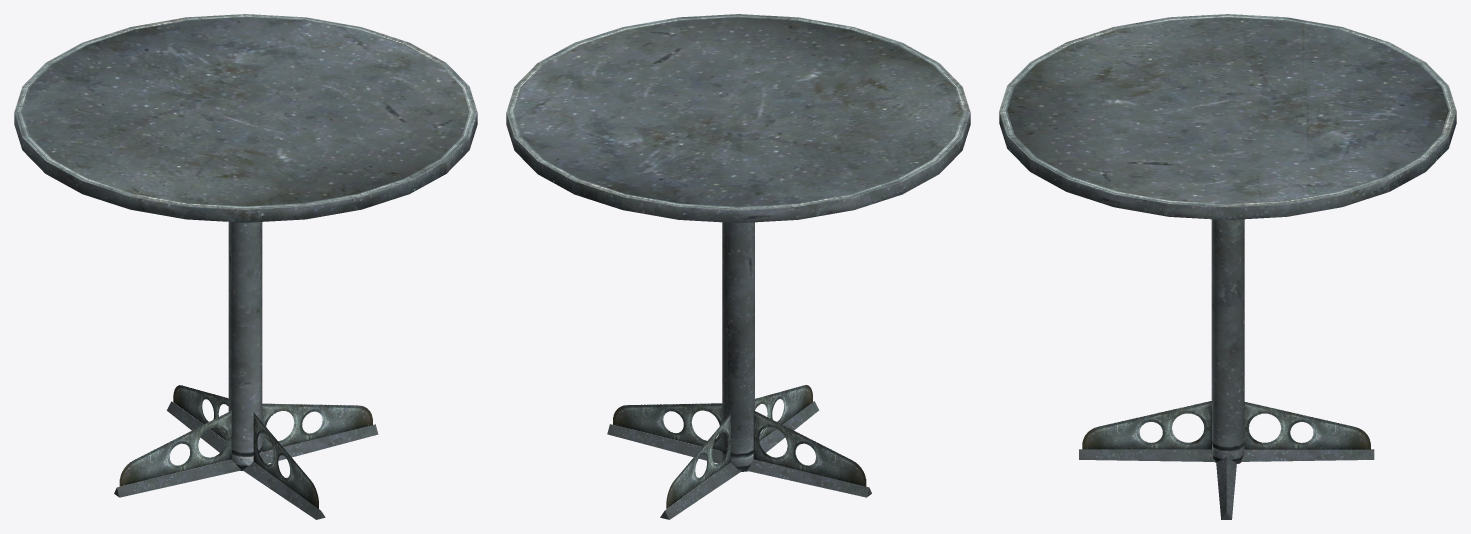
The model's file is vault_round_table.obj.
The picture shows the model from 3 angles, left to right: view 1: azimuth 30°, elevation 25°; view 2: azimuth 150°, elevation 25°; view 3: azimuth 270°, elevation 25°; orthographic projection.
Visible parts, largest first — view 1: vault_round_table; view 2: vault_round_table; view 3: vault_round_table.
Part boxes in pixels (x1,y1,x2,y2): vault_round_table: [14, 14, 477, 519]; vault_round_table: [506, 14, 970, 519]; vault_round_table: [999, 14, 1456, 519].
Bounding box in the file's own units: 65.74 × 55.2 × 65.74.
Materials: 1 (1 with a texture image).
